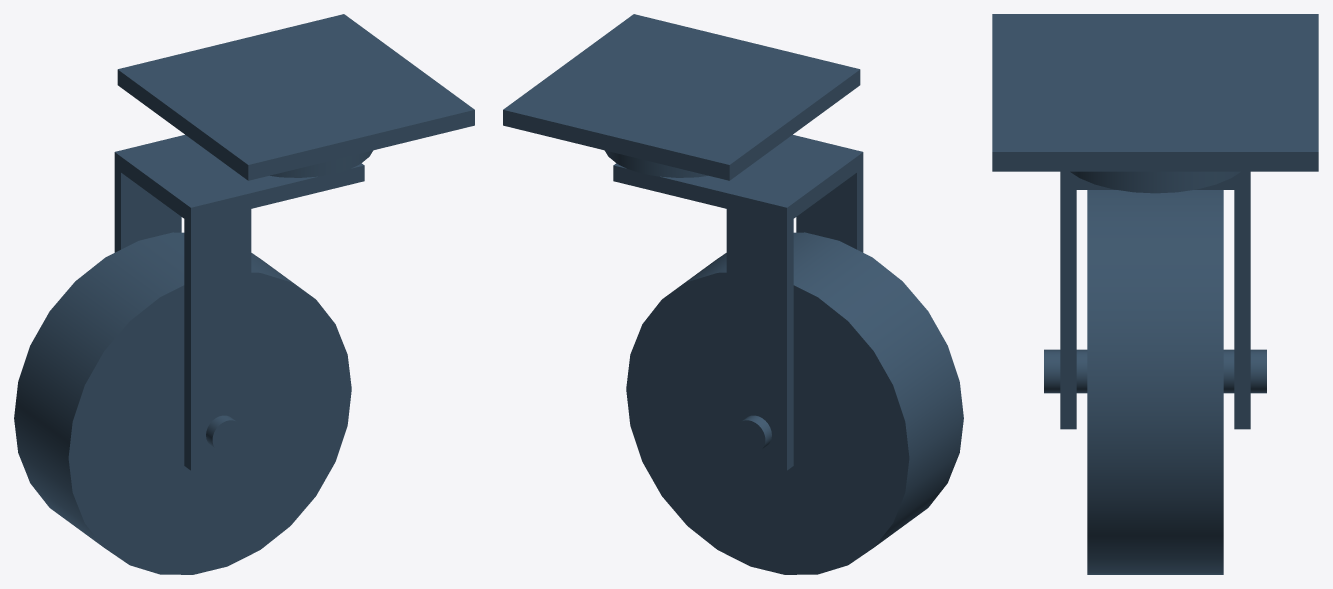
File: motion-caster-wheel.glb
The picture shows the model from 3 angles, left to right: view 1: azimuth 30°, elevation 25°; view 2: azimuth 150°, elevation 25°; view 3: azimuth 270°, elevation 25°; orthographic projection. The views are drawn at different scales.
Bounding box in the file's own units: 0.0975 × 0.1097 × 0.06.
